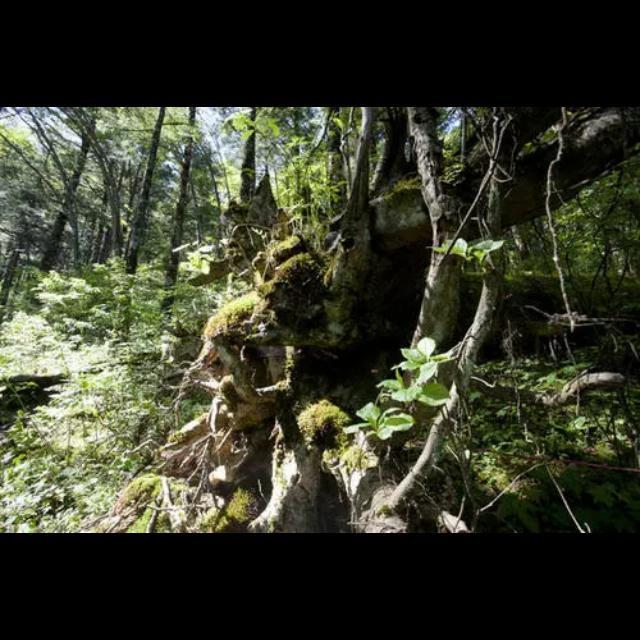fallen_tree: (239, 108, 639, 306), (212, 309, 502, 531)
